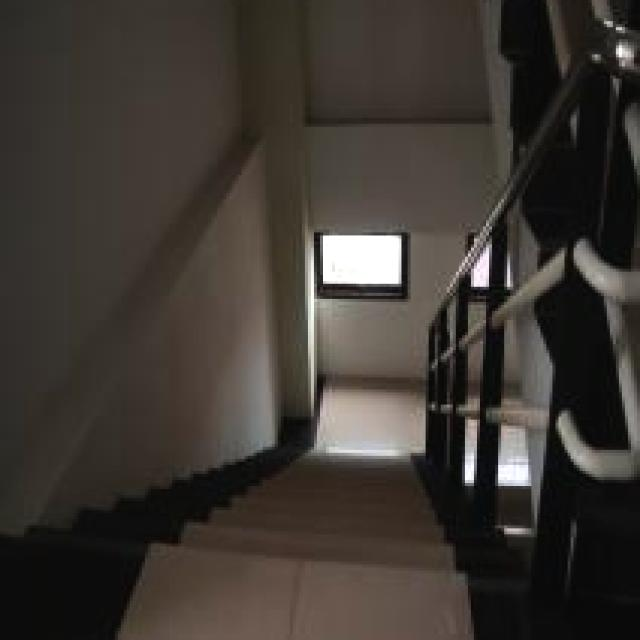downstair: (194, 426, 447, 640)
